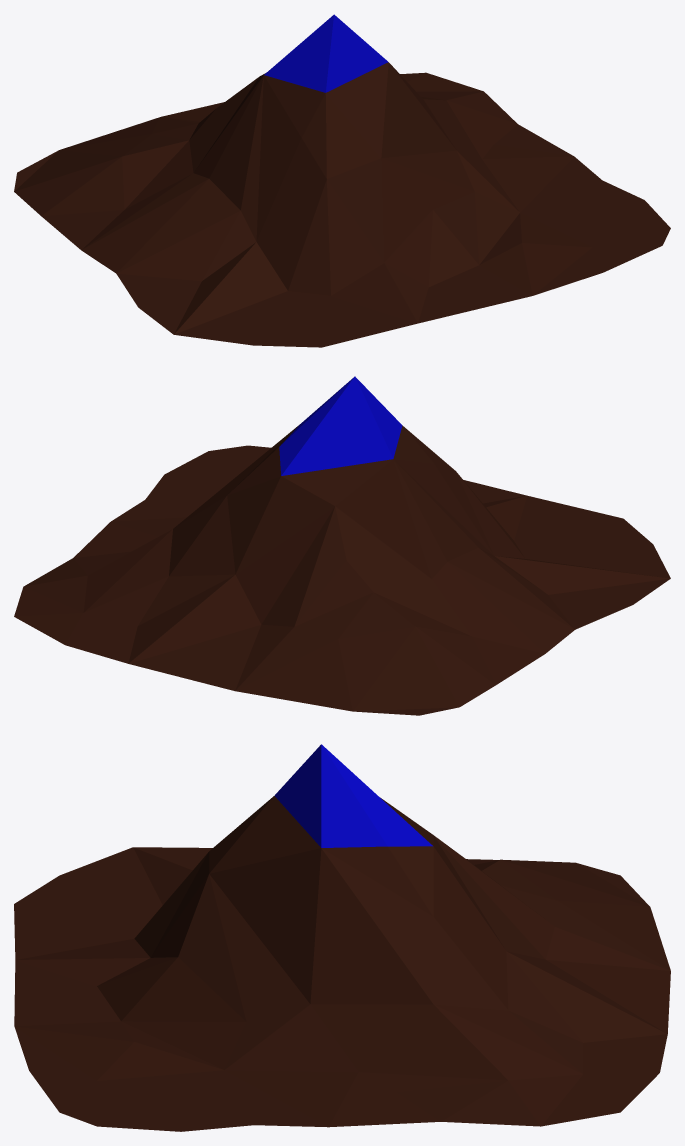
Rendered from PRO_Mountain_03.FBX.
3 views of the same model, one above another, from view 1: azimuth 30°, elevation 25°; view 2: azimuth 150°, elevation 25°; view 3: azimuth 270°, elevation 25° (orthographic). The views are drawn at different scales.
Parts seen in each view (by area): view 1: PRO_Mountain_03; view 2: PRO_Mountain_03; view 3: PRO_Mountain_03.
Boxes of the visible parts, x1=… form: PRO_Mountain_03: x1=14, y1=14, x2=670, y2=347; PRO_Mountain_03: x1=14, y1=376, x2=670, y2=715; PRO_Mountain_03: x1=14, y1=744, x2=670, y2=1131.
Size of the model in its own units: 154 by 60.94 by 150.
